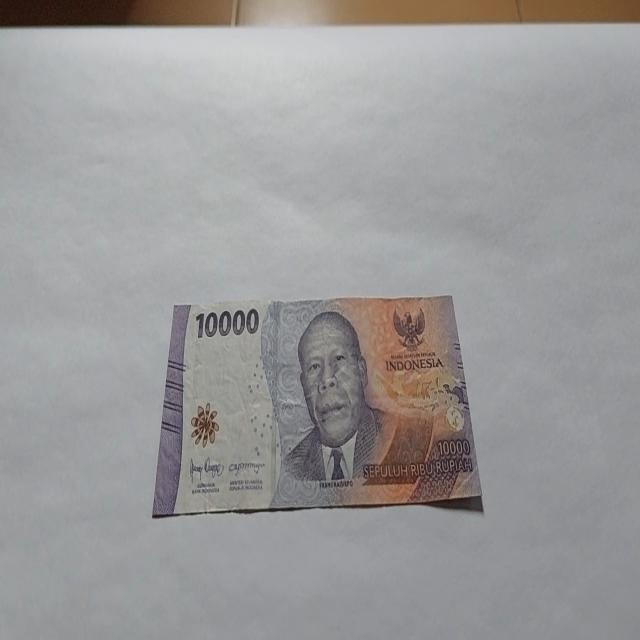sepuluh ribu rupiah: (152, 294, 484, 518)
